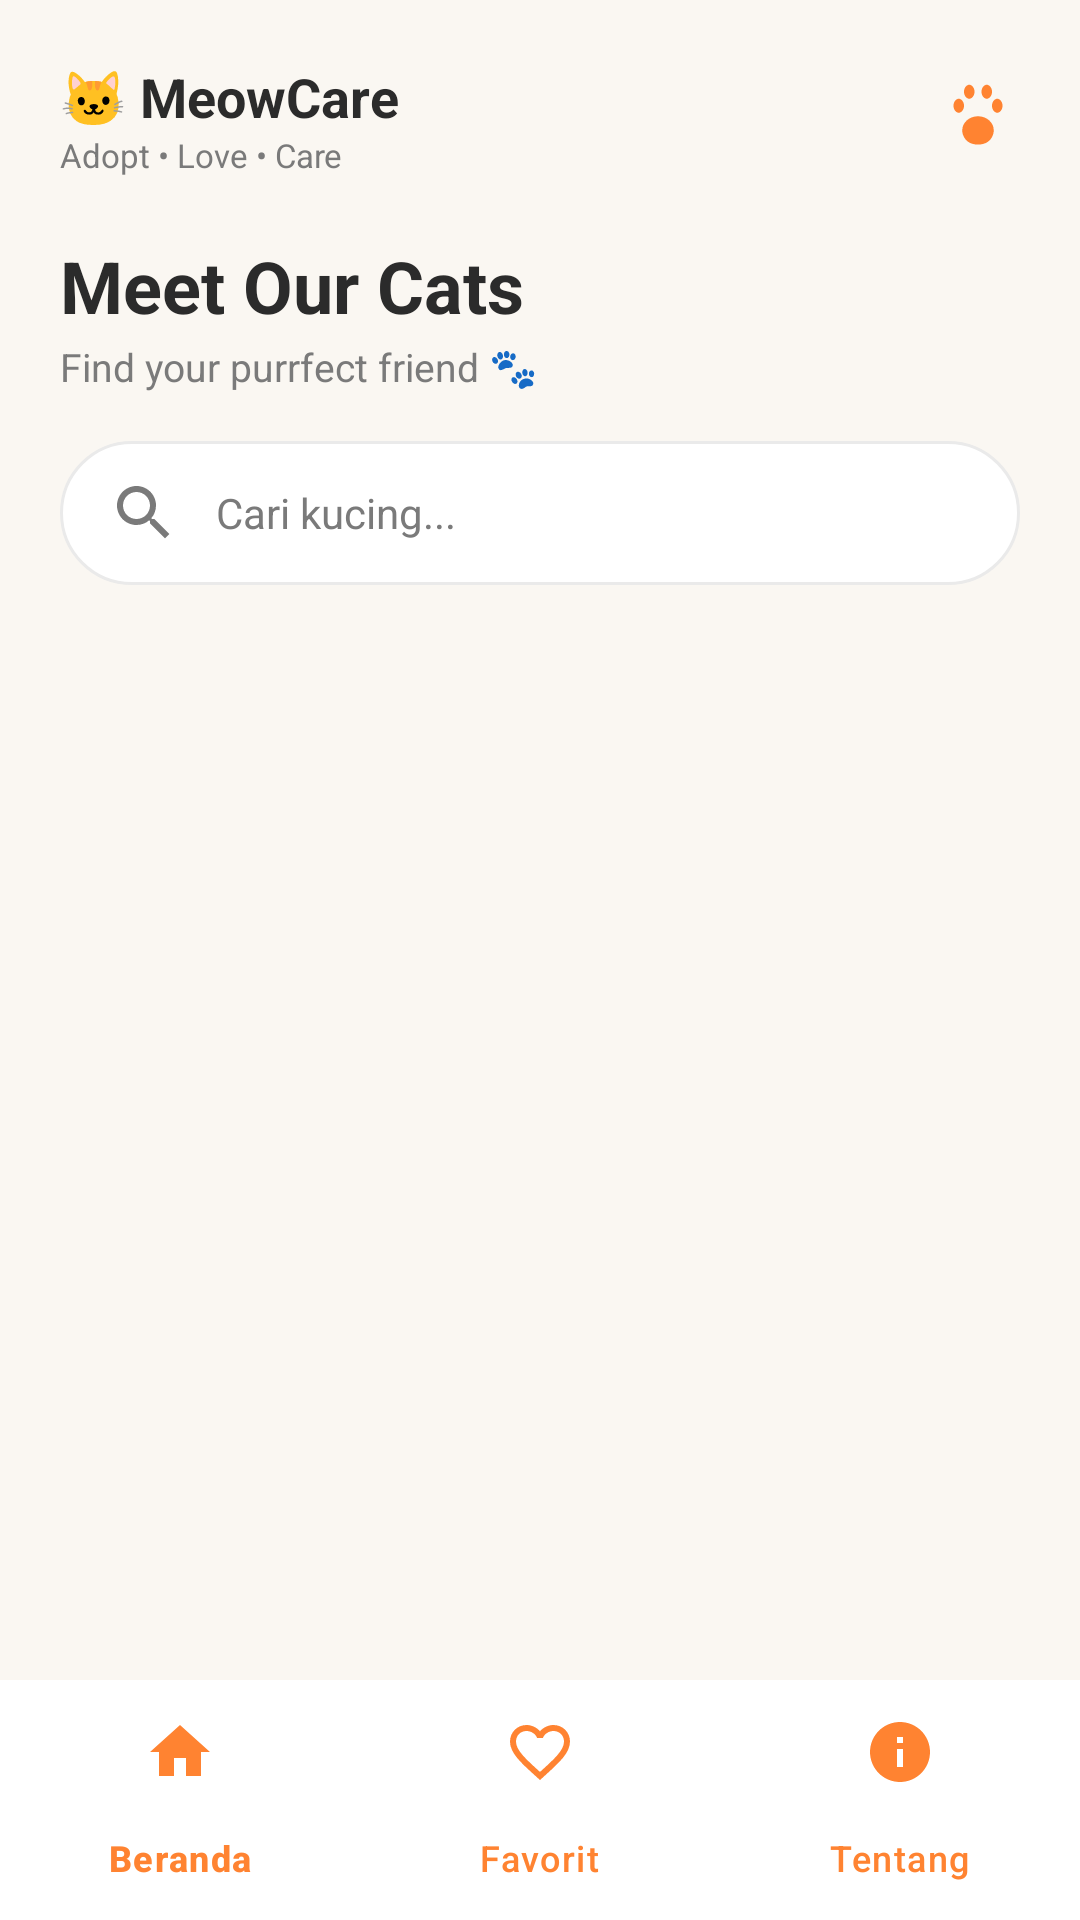

Locate icon controls on the screen. Image size 1080x1920, boxes as (x1, y1, x2, y2).
Paw: (953, 84, 1003, 145)
